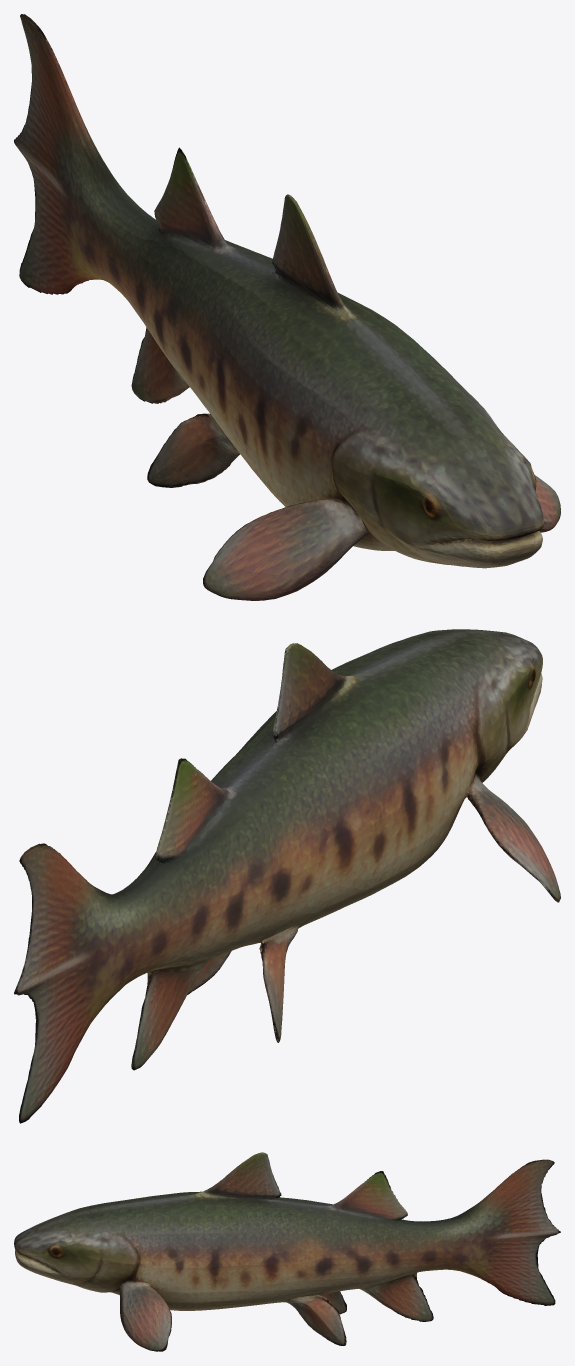
3 views of the same model, one above another, from view 1: azimuth 30°, elevation 25°; view 2: azimuth 150°, elevation 25°; view 3: azimuth 270°, elevation 25° (orthographic). The views are drawn at different scales.
Visible parts, largest first — view 1: world; view 2: world; view 3: world.
Part boxes in pixels (<box>): world: <box>14,14,560,600</box>; world: <box>14,629,560,1123</box>; world: <box>14,1152,560,1351</box>.
Bounding box in the file's own units: 0.4848 × 0.4304 × 1.2.
1 material, 1 textured.
